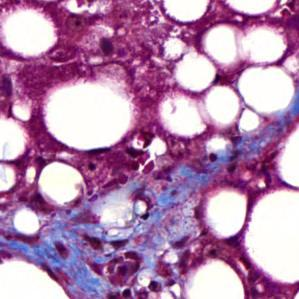steatosis: (44, 82, 133, 150), (205, 188, 249, 239)
